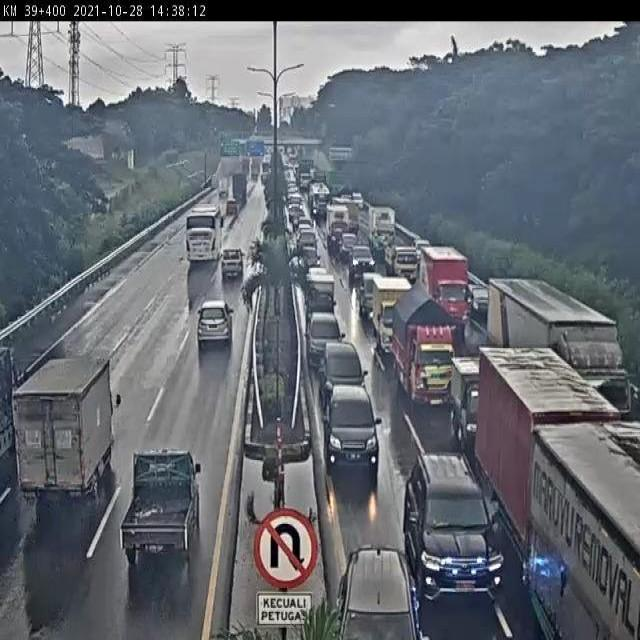big bus: (185, 213, 226, 280)
big truck: (480, 341, 610, 544), (533, 428, 640, 640), (11, 337, 118, 548), (487, 277, 629, 420), (393, 284, 458, 408), (375, 279, 407, 336)
car: (405, 446, 495, 614), (345, 544, 414, 640), (328, 384, 386, 467), (318, 335, 372, 392), (308, 312, 347, 369), (212, 246, 255, 294), (192, 306, 234, 354)
small truck: (112, 441, 214, 600)
